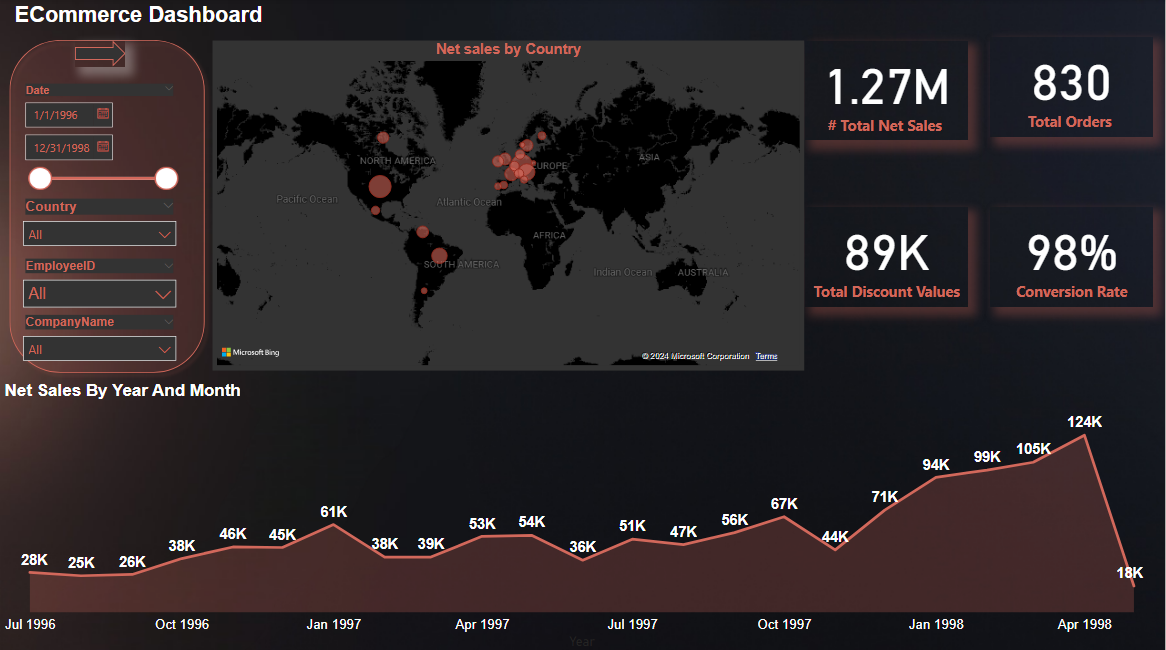

The dashboard page shown, as its layout file describes it:
{"tool":"powerbi","page":{"name":"Sales Patterns","canvas":[1280,720],"ordinal":0},"visuals":[{"type":"card","fields":{"Values":["Sum(OrdersDetails.Net sales revneu)"]},"box":[883.7,47,179.6,109.8],"z":0},{"type":"card","fields":{"Values":["OrdersDetails.Total Orders Count"]},"box":[1086.1,42.8,179.6,109.8],"z":1000},{"type":"textbox","box":[11.4,0,297.9,37.1],"z":2000},{"type":"card","fields":{"Values":["Sum(OrdersDetails.Discount value)"]},"box":[883.7,229.5,179.6,109.8],"z":3000},{"type":"shape","box":[1.4,37.1,232.3,383.4],"z":4000},{"type":"card","fields":{"Values":["OrdersDetails.Conversion Rate"]},"box":[1086.1,229.5,179.6,109.8],"z":5000},{"type":"areaChart","title":"Net Sales By Year And Month","fields":{"Y":["Sum(OrdersDetails.Net sales revneu)"],"Category":["Calender.Date.Variation.Date Hierarchy.Year","Calender.Date.Variation.Date Hierarchy.Month"]},"box":[0,420.5,1280,299.3],"z":6000},{"type":"slicer","fields":{"Values":["Customers.Country"]},"box":[15.7,215.2,188.2,65.6],"z":7000},{"type":"map","title":" Net sales by Country","fields":{"Category":["Customers.Country"],"Size":["Sum(OrdersDetails.Net sales revneu)"]},"box":[233.8,47,650,362],"z":8000},{"type":"slicer","fields":{"Values":["Orders.EmployeeID"]},"box":[15.7,280.8,188.2,62.7],"z":9000},{"type":"slicer","fields":{"Values":["Customers.CompanyName"]},"box":[15.7,343.5,188.2,65.6],"z":10000},{"type":"shape","box":[82.7,47,55.6,28.5],"z":11000},{"type":"slicer","fields":{"Values":["Calender.Date"]},"box":[15.7,89.8,188.2,125.4],"z":12000}]}

Visuals, with their boxes in screenshot pixels (x1, y1, x2, y2), scaled from the page's 1280x720 canvas onto the 1166x650 screenshot:
card - Sum(OrdersDetails.Net sales revneu): (805, 42, 969, 142)
card - OrdersDetails.Total Orders Count: (989, 39, 1153, 138)
textbox: (10, 0, 282, 33)
card - Sum(OrdersDetails.Discount value): (805, 207, 969, 306)
shape: (1, 33, 213, 380)
card - OrdersDetails.Conversion Rate: (989, 207, 1153, 306)
"Net Sales By Year And Month" areaChart: (0, 380, 1165, 649)
slicer - Customers.Country: (14, 194, 186, 253)
" Net sales by Country" map: (213, 42, 805, 369)
slicer - Orders.EmployeeID: (14, 254, 186, 310)
slicer - Customers.CompanyName: (14, 310, 186, 369)
shape: (75, 42, 126, 68)
slicer - Calender.Date: (14, 81, 186, 194)
